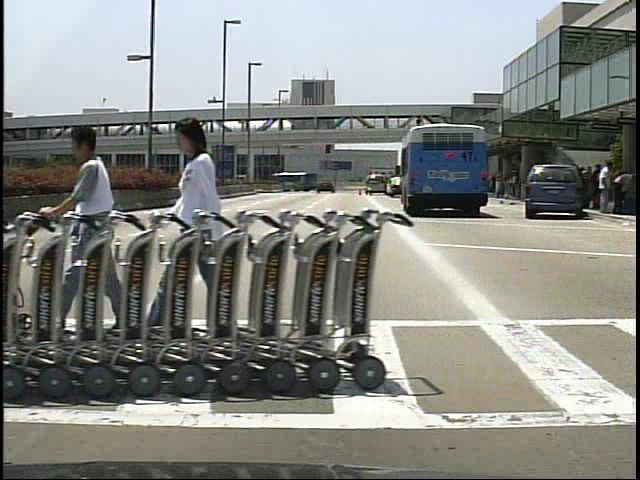person: (162, 111, 248, 350), (55, 120, 132, 339), (597, 160, 618, 216), (589, 162, 605, 213)
